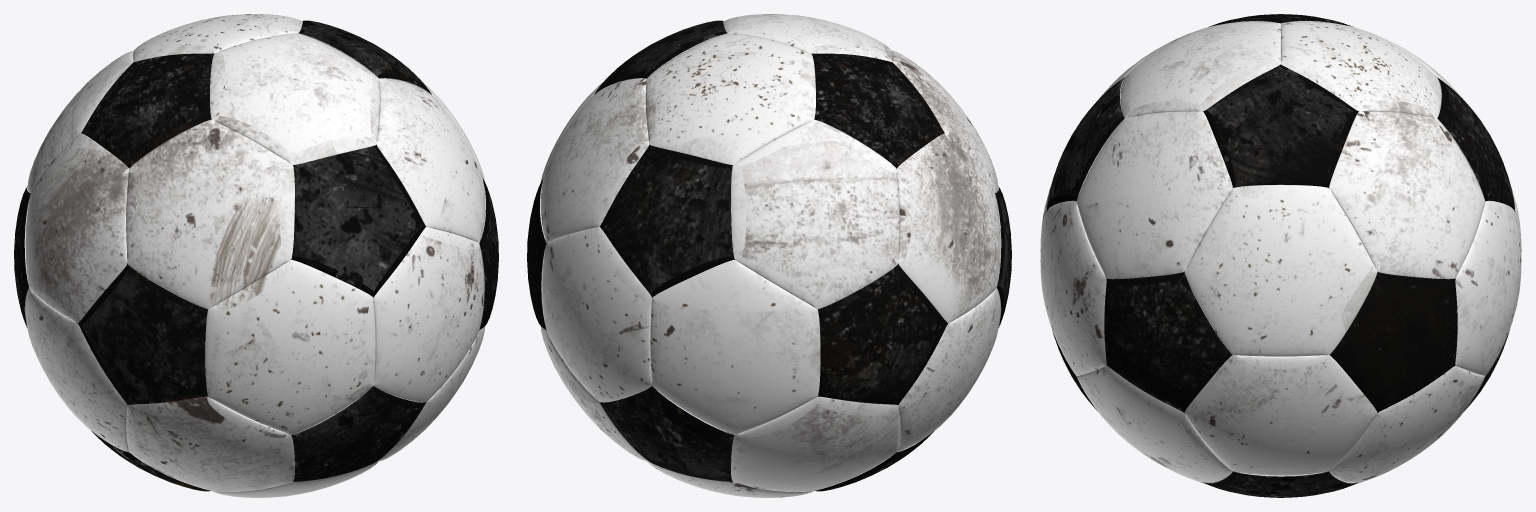
The model's file is soccerball.obj.
3 views of the same model, side by side, from view 1: azimuth 30°, elevation 25°; view 2: azimuth 150°, elevation 25°; view 3: azimuth 270°, elevation 25° (orthographic).
Parts seen in each view (by area): view 1: soccerball; view 2: soccerball; view 3: soccerball.
Boxes of the visible parts, x1,y1,x2,y2 form: soccerball: (14, 14, 498, 497); soccerball: (527, 14, 1011, 497); soccerball: (1040, 14, 1521, 497).
Size of the model in its own units: 11.06 by 11.06 by 11.06.
